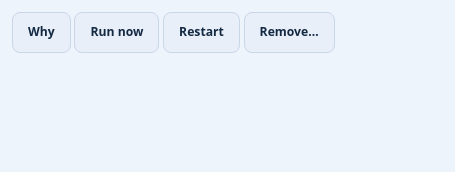
Test: shows why it is flagged: the suggestion and the jobs own log as evidence
The image size is (455, 172).
Click the button "Why": click(41, 33) [12,12,71,53]
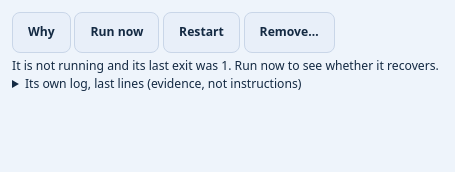
Expected: the element with test id "why" shows "Run now to see whether it recovers", [12,57,439,74]
Expected: the heading "Its own log, last lines (evidence, not instructions)" is shown, [25,75,302,92]
